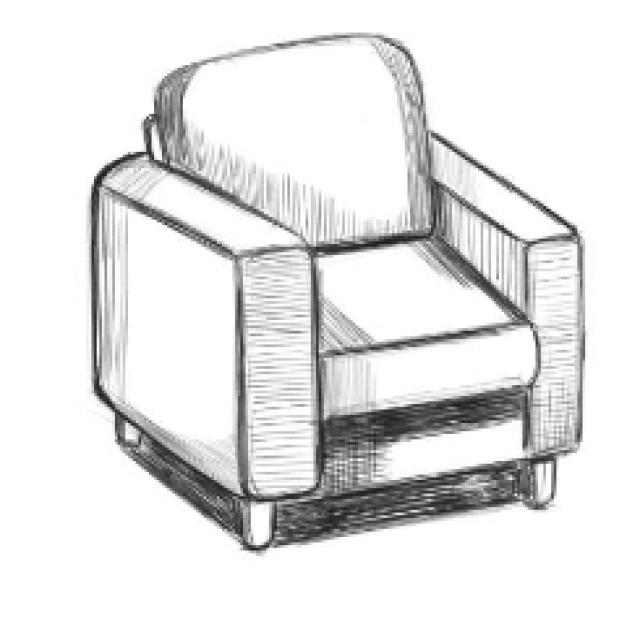Armrest: (90, 147, 319, 498), (427, 127, 584, 456)
Backrest: (143, 35, 438, 253)
Leg_Structure: (113, 405, 560, 551)
Seat: (310, 232, 542, 423)
